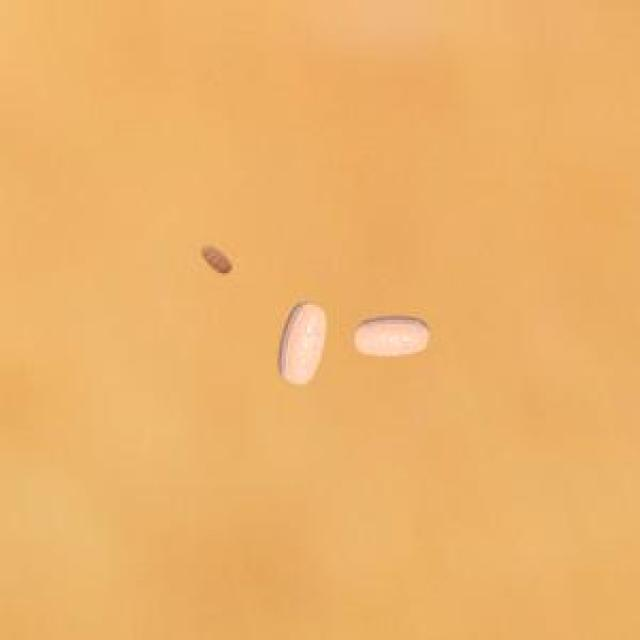Biogesic: (342, 298, 439, 372), (273, 292, 334, 392), (185, 232, 247, 284)
